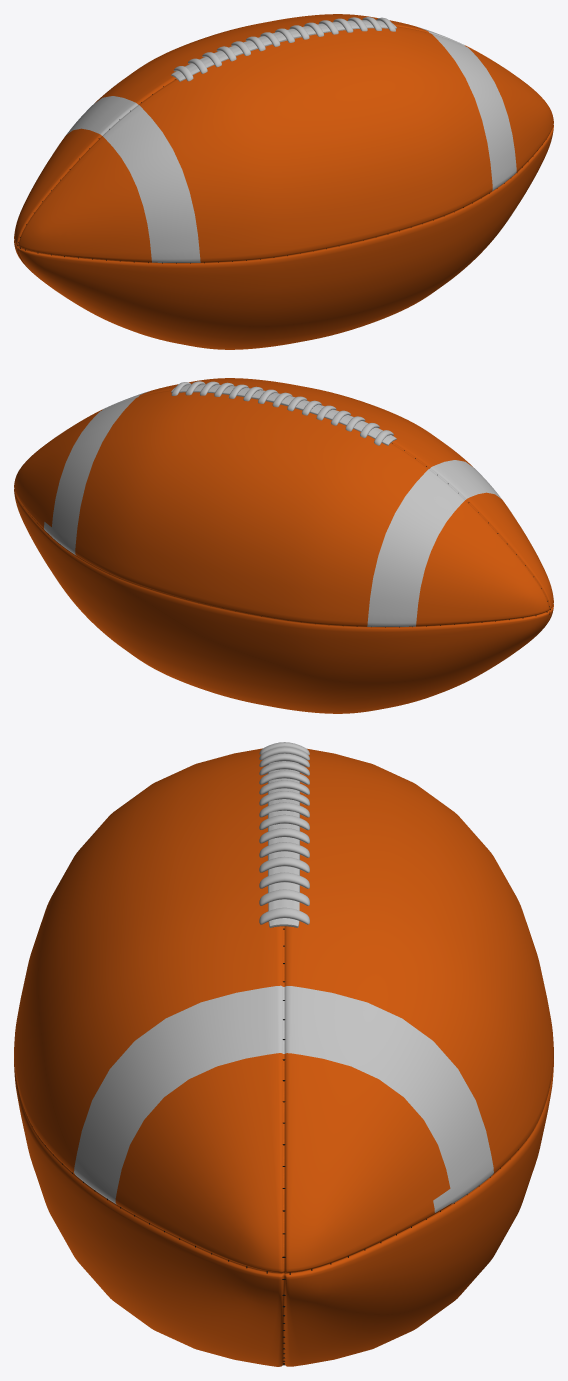
File: football.fbx
3 renders of one model, top to bottom at view 1: azimuth 30°, elevation 25°; view 2: azimuth 150°, elevation 25°; view 3: azimuth 270°, elevation 25°, orthographic. The views are drawn at different scales.
Parts seen in each view (by area): view 1: Cube, Cube.002, Cube.003; view 2: Cube, Cube.002, Cube.003; view 3: Cube, Cube.002, Cube.003.
Boxes of the visible parts, bbox=[...] form: Cube: bbox=[14, 14, 553, 349]; Cube.002: bbox=[173, 17, 395, 81]; Cube.003: bbox=[171, 20, 396, 81]; Cube: bbox=[14, 378, 553, 713]; Cube.002: bbox=[171, 381, 393, 445]; Cube.003: bbox=[171, 384, 396, 445]; Cube: bbox=[14, 748, 553, 1366]; Cube.002: bbox=[259, 742, 309, 924]; Cube.003: bbox=[268, 761, 299, 927].
Size of the model in its own units: 29.56 by 15.78 by 15.48.
